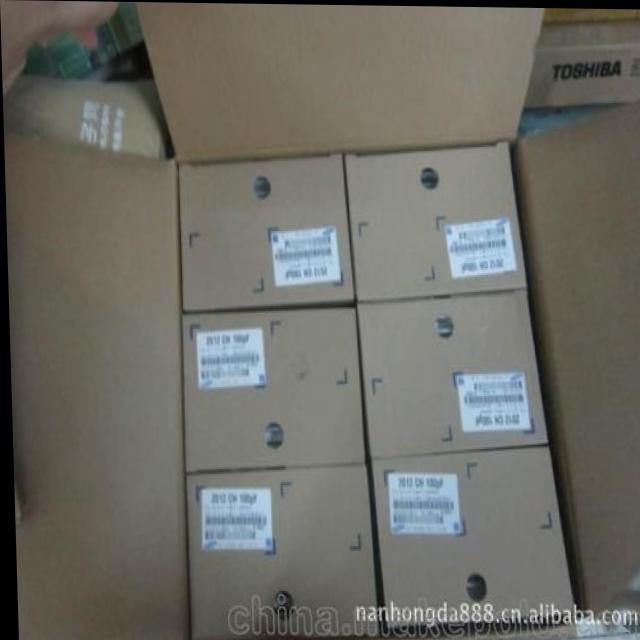box: (368, 440, 570, 626), (184, 458, 376, 640), (354, 284, 548, 455), (180, 308, 363, 473), (341, 139, 526, 299), (178, 151, 352, 313)
